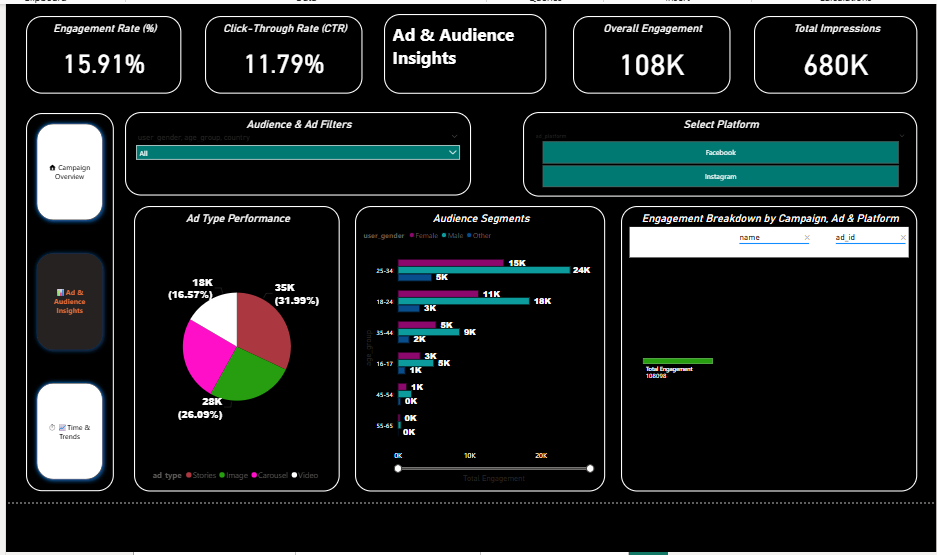

The page's visual inventory and layout, read from the dashboard file:
{"tool":"powerbi","page":{"name":"📊Ad & Audience Insights","canvas":[1736,930],"ordinal":1},"visuals":[{"type":"card","title":"Engagement Rate (%)","fields":{"Values":["Meaasure Table.Engagement Rate"]},"box":[37.6,22.6,289.9,144.9],"z":0},{"type":"card","title":"Total Impressions","fields":{"Values":["Meaasure Table.Total Impressions"]},"box":[1396.7,22.6,304.9,144.9],"z":1000},{"type":"card","title":"Overall Engagement","fields":{"Values":["Meaasure Table.Total Engagement"]},"box":[1057.9,22.6,293.6,144.9],"z":2000},{"type":"donutChart","title":"Ad Type Performance","fields":{"Category":["social_media_ad ads.ad_type"],"Y":["Meaasure Table.Total Engagement"]},"box":[239.1,376.5,384,532.7],"z":3000},{"type":"clusteredBarChart","title":"Audience Segments","fields":{"Category":["social_media_ad users.age_group"],"Y":["Meaasure Table.Total Engagement"],"Series":["social_media_ad users.user_gender"]},"box":[651.3,376.5,466.8,532.7],"z":4000},{"type":"decompositionTreeVisual","title":"Engagement Breakdown by Campaign, Ad & Platform","fields":{"Analyze":["Meaasure Table.Total Engagement"],"ExplainBy":["social_media_ad campaigns.name","social_media_ad adevents.event_type","social_media_ad ads.ad_platform","social_media_ad ads.ad_id"]},"box":[1148.2,376.5,553.4,532.7],"z":5000},{"type":"slicer","title":"Select Platform","fields":{"Values":["social_media_ad ads.ad_platform"]},"box":[965.6,201.4,736,158.1],"z":6000},{"type":"slicer","title":"Audience & Ad Filters","fields":{"Values":["social_media_ad users.user_gender","social_media_ad users.age_group","social_media_ad users.country"]},"box":[222.1,201.4,645.6,156.2],"z":7000},{"type":"pageNavigator","box":[37.6,203.3,163.8,705.9],"z":8000},{"type":"card","title":"Click-Through Rate (CTR)","fields":{"Values":["Meaasure Table.CTR"]},"box":[370.8,22.6,293.6,144.9],"z":9000},{"type":"textbox","box":[705.9,18.8,303.1,148.7],"z":10000}]}

Visuals, with their boxes in screenshot pixels (x1, y1, x2, y2):
"Engagement Rate (%)" card: (left=27, top=14, right=182, bottom=92)
"Total Impressions" card: (left=751, top=14, right=913, bottom=92)
"Overall Engagement" card: (left=570, top=14, right=727, bottom=92)
"Ad Type Performance" donutChart: (left=135, top=203, right=339, bottom=486)
"Audience Segments" clusteredBarChart: (left=354, top=203, right=602, bottom=486)
"Engagement Breakdown by Campaign, Ad & Platform" decompositionTreeVisual: (left=618, top=203, right=913, bottom=486)
"Select Platform" slicer: (left=521, top=110, right=913, bottom=194)
"Audience & Ad Filters" slicer: (left=126, top=110, right=469, bottom=193)
pageNavigator: (left=27, top=111, right=115, bottom=486)
"Click-Through Rate (CTR)" card: (left=205, top=14, right=361, bottom=92)
textbox: (left=383, top=12, right=544, bottom=92)
